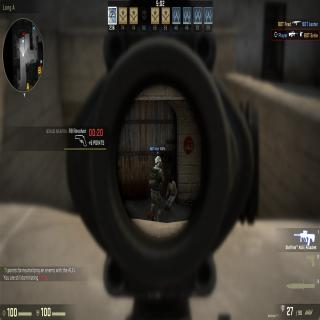CT-Body: (149, 156, 164, 223)
CT-Head: (154, 155, 162, 169)
